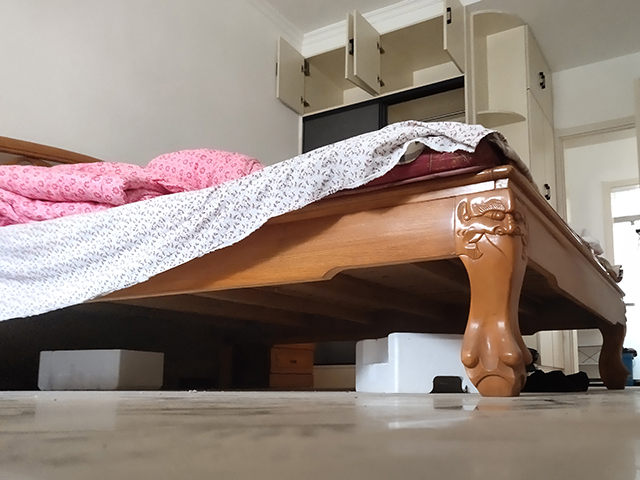bed: (1, 119, 633, 399)
cabinet: (231, 341, 317, 393)
trashcan: (621, 347, 638, 388)
